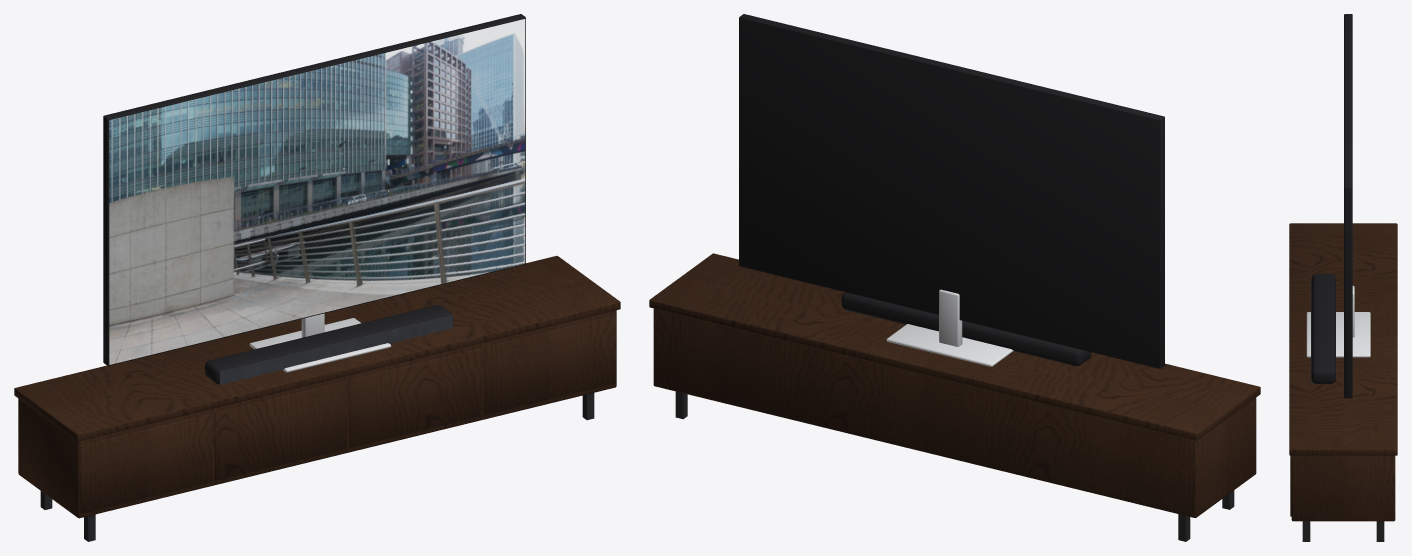
3 views of the same model, side by side, from view 1: azimuth 30°, elevation 25°; view 2: azimuth 150°, elevation 25°; view 3: azimuth 270°, elevation 25° (orthographic). The views are drawn at different scales.
Visible parts, largest first — view 1: screen, cabtop, cab, door.002, door.003, door, door.001, panel, soundbar, sbgrill, ped; view 2: panel, cab, cabtop, soundbar, ped, neck; view 3: cabtop, cab, panel, soundbar, ped, leg.002, leg.003, neck.
Boxes of the visible parts, left/top/right/bottom form: screen: left=109, top=19, right=525, bottom=364; cabtop: left=14, top=256, right=620, bottom=441; cab: left=18, top=310, right=616, bottom=518; door.002: left=349, top=348, right=481, bottom=447; door.003: left=484, top=315, right=616, bottom=414; door: left=80, top=413, right=211, bottom=513; door.001: left=215, top=381, right=346, bottom=480; panel: left=103, top=14, right=525, bottom=365; soundbar: left=205, top=305, right=453, bottom=384; sbgrill: left=219, top=315, right=452, bottom=384; ped: left=249, top=318, right=391, bottom=372; panel: left=739, top=14, right=1164, bottom=368; cab: left=653, top=308, right=1256, bottom=517; cabtop: left=649, top=253, right=1260, bottom=440; soundbar: left=841, top=292, right=1091, bottom=366; ped: left=886, top=324, right=1013, bottom=366; neck: left=939, top=289, right=962, bottom=346; cabtop: left=1289, top=223, right=1397, bottom=455; cab: left=1291, top=455, right=1395, bottom=521; panel: left=1344, top=14, right=1352, bottom=398; soundbar: left=1311, top=273, right=1335, bottom=383; ped: left=1306, top=312, right=1370, bottom=357; leg.002: left=1302, top=521, right=1310, bottom=541; leg.003: left=1376, top=521, right=1384, bottom=541; neck: left=1352, top=285, right=1354, bottom=337.
Bounding box in the file's own units: 1.92 × 1.33 × 0.3894.
6 materials, 3 textured.
